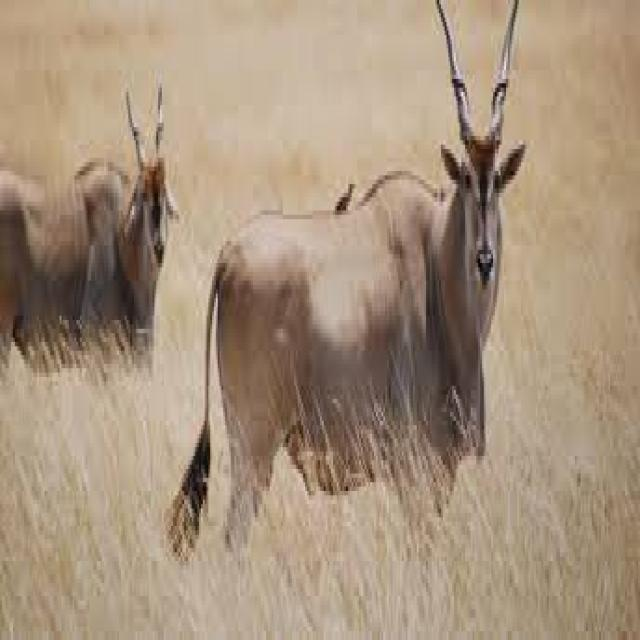Antelope: (177, 5, 524, 571), (0, 58, 178, 417)
